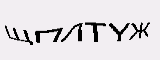Ж: (125, 21, 151, 42)
Л: (58, 22, 85, 44)
П: (34, 26, 62, 44)
Т: (82, 20, 105, 43)
Щ: (3, 25, 34, 45)
Ү: (106, 22, 130, 43)
